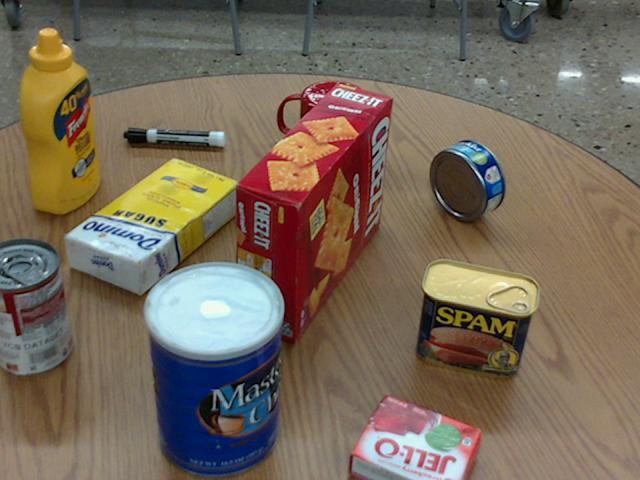cracker_box: (237, 83, 391, 340)
gelatin_box: (349, 394, 483, 479)
large_marker: (124, 127, 224, 146)
master_chef_can: (144, 262, 282, 478)
mug: (278, 81, 367, 173)
mustard_bottle: (21, 29, 99, 213)
potted_meat_can: (416, 258, 539, 377)
sugar_box: (63, 156, 239, 295)
tomato_soup_can: (0, 237, 70, 373)
tuna_fish_can: (428, 139, 504, 219)
